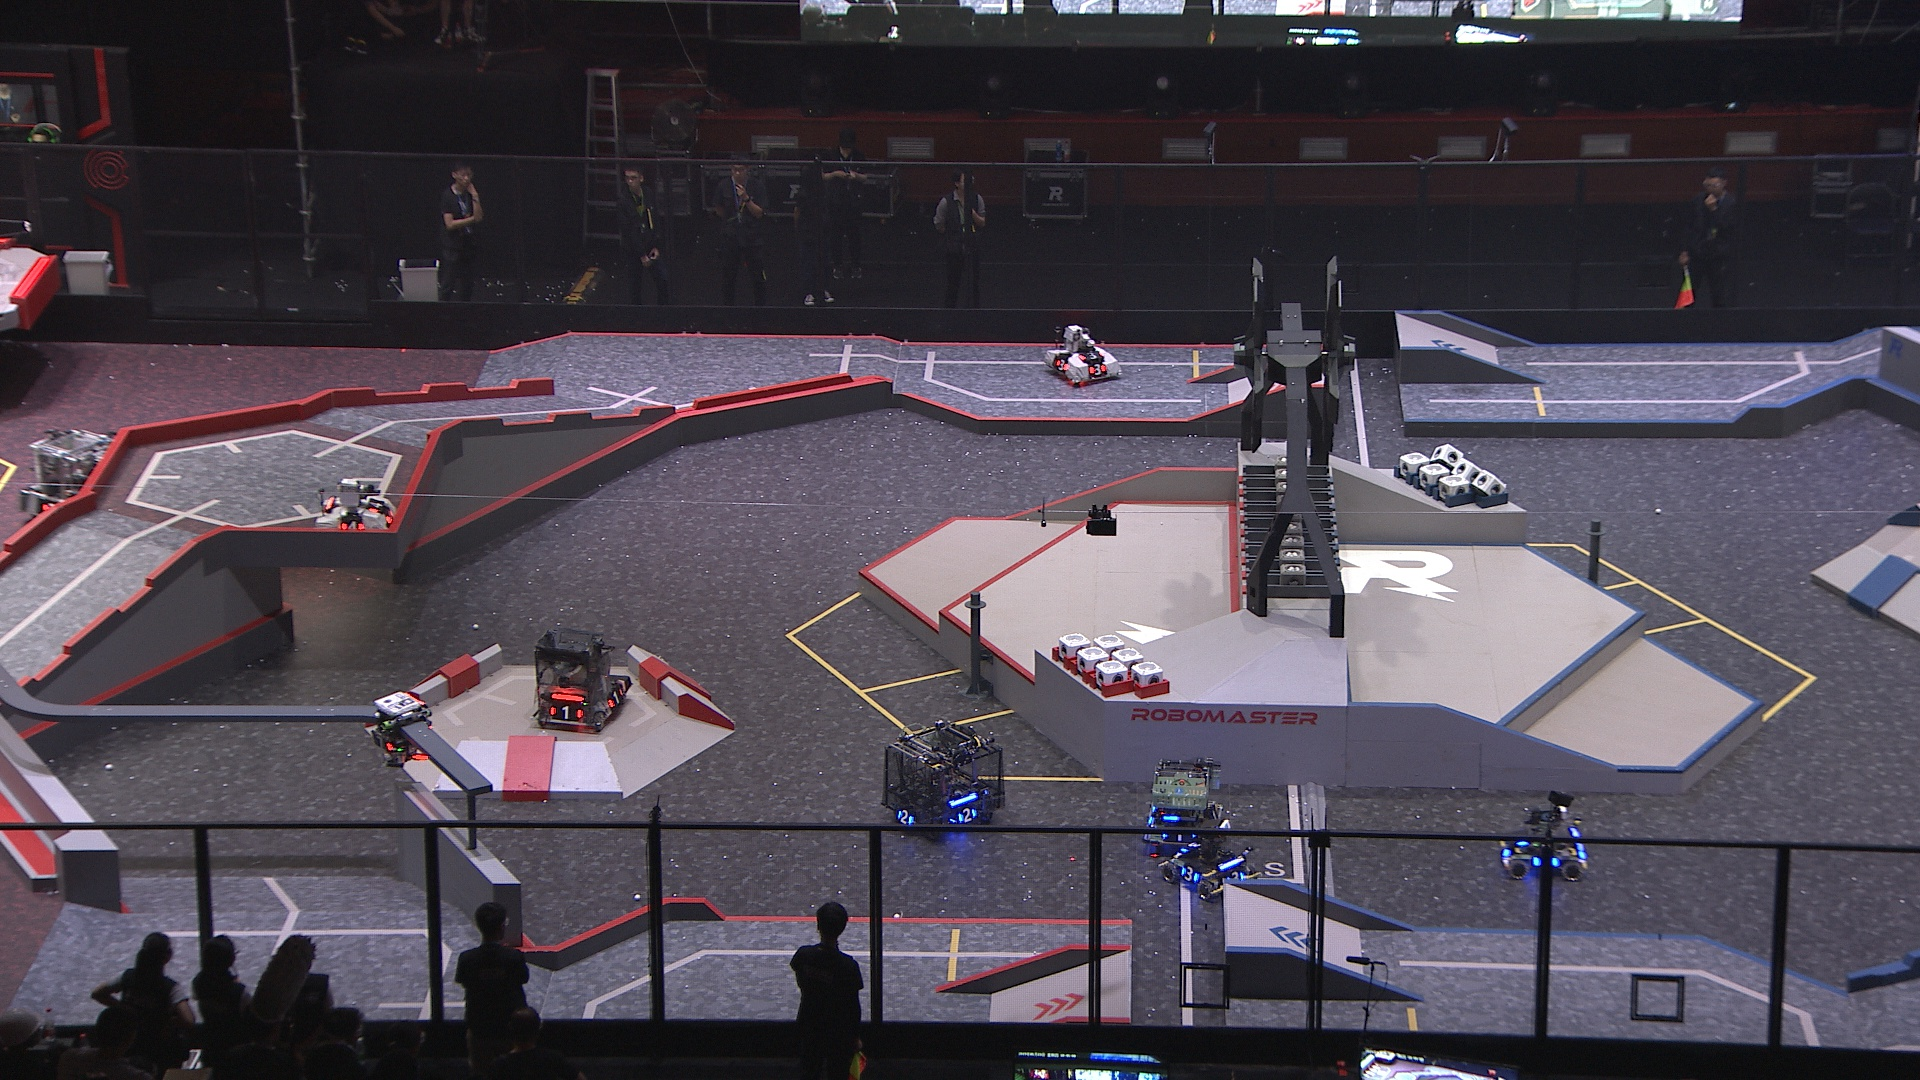armor: (549, 704, 584, 723), (371, 728, 394, 752), (1162, 831, 1197, 845), (605, 688, 626, 712), (956, 806, 978, 827), (1178, 864, 1201, 884), (894, 808, 916, 825), (1207, 806, 1222, 829), (338, 520, 367, 531), (1077, 349, 1102, 363), (1088, 361, 1109, 376), (1222, 869, 1245, 882), (367, 498, 385, 513), (1055, 357, 1069, 372)
car: (884, 717, 1006, 844), (16, 429, 123, 538), (533, 628, 632, 732), (1495, 789, 1589, 882), (1145, 760, 1230, 853), (1156, 820, 1261, 897), (313, 479, 396, 541), (1040, 324, 1122, 386)
watcher: (367, 690, 436, 767)
